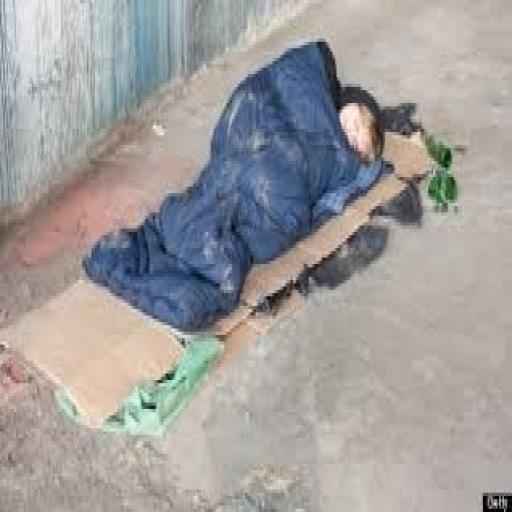sleeping: (82, 32, 388, 332)
